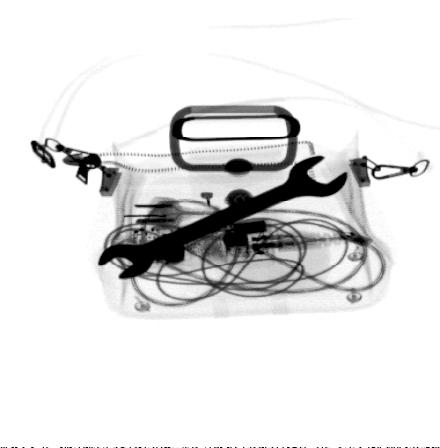Wrench: (97, 155, 350, 280)
